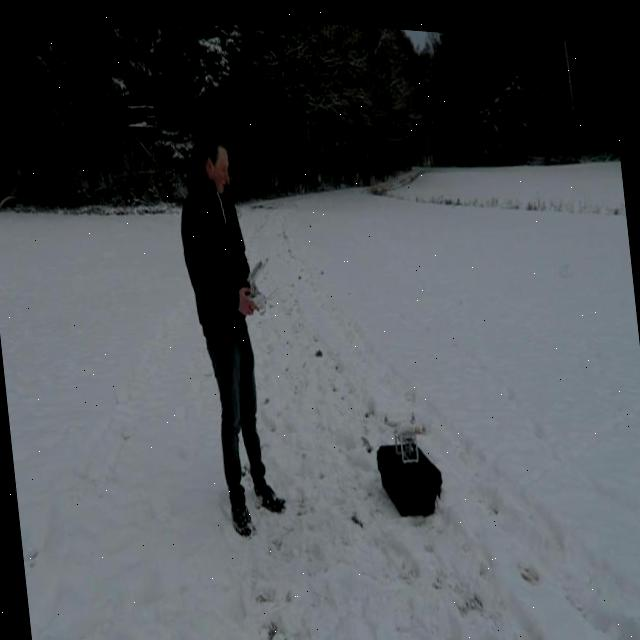drone: (381, 398, 432, 460)
